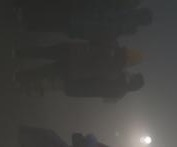person: (17, 6, 153, 38), (10, 41, 145, 72), (57, 68, 145, 99)
